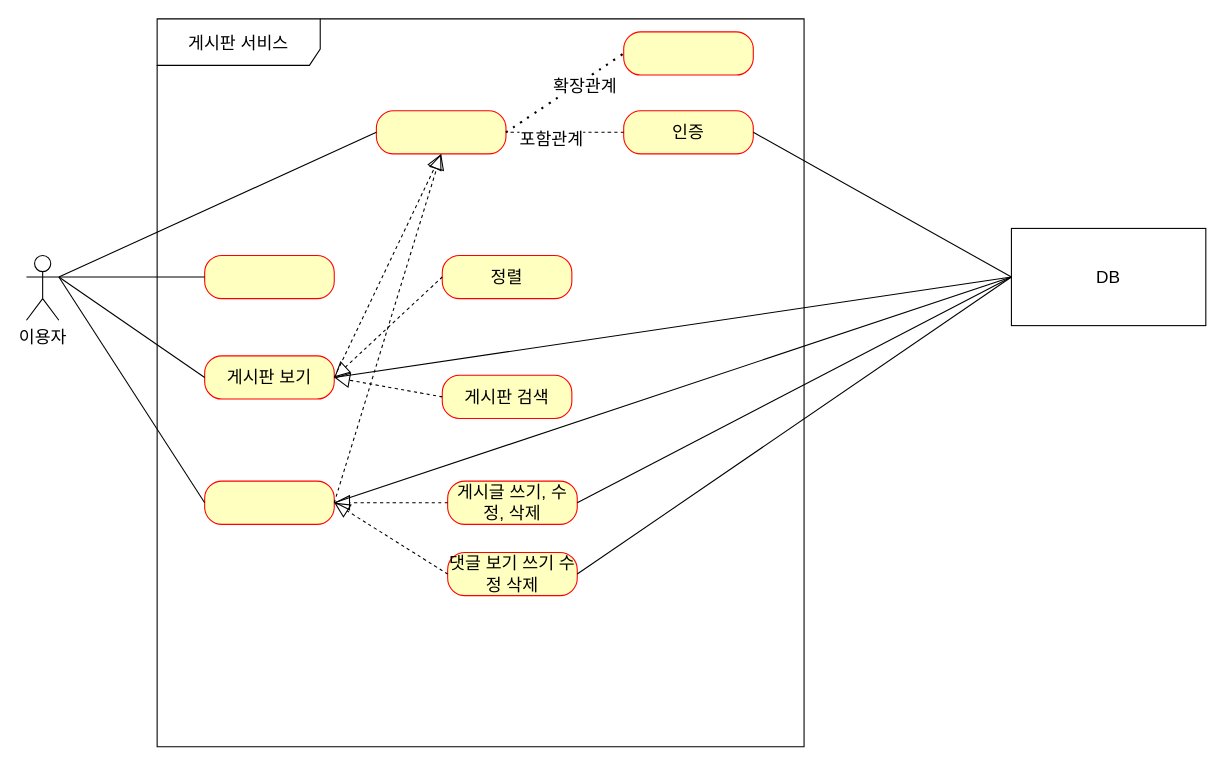
The diagram is 1225 pixels wide and 766 high, and some of its shapes have lost their labels. Each missing label, with the box of its shape:
게시글 보기: (204, 480, 334, 524)
로그인 실패: (623, 31, 753, 75)
회원 로그인: (375, 110, 506, 154)
회원가입: (204, 254, 334, 299)
